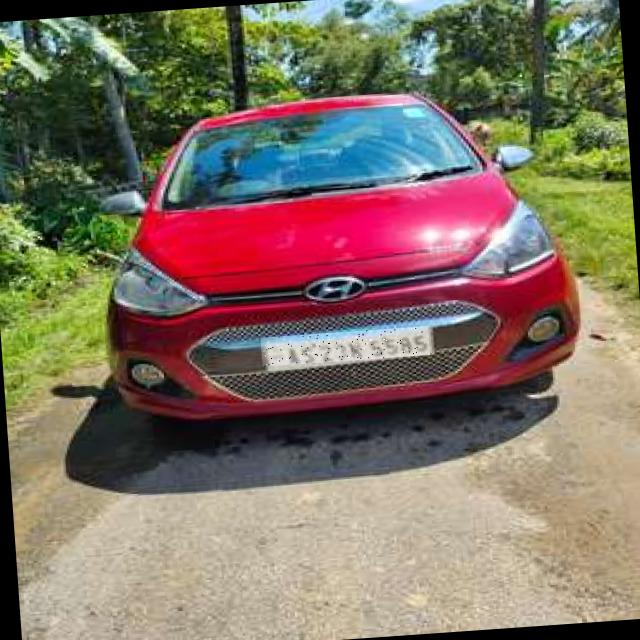Plate: (261, 327, 431, 368)
